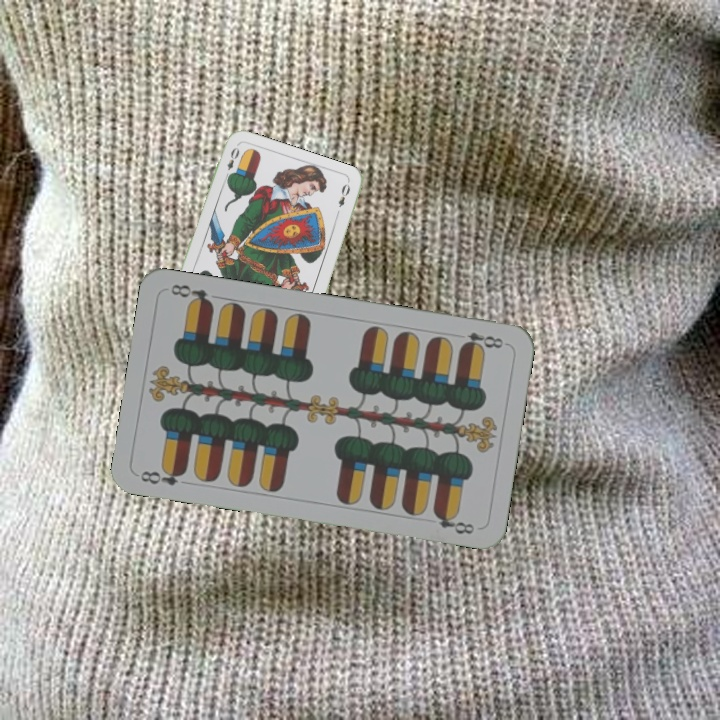E8: (136, 463, 189, 488), (457, 328, 509, 353)
EO: (221, 143, 242, 182)
